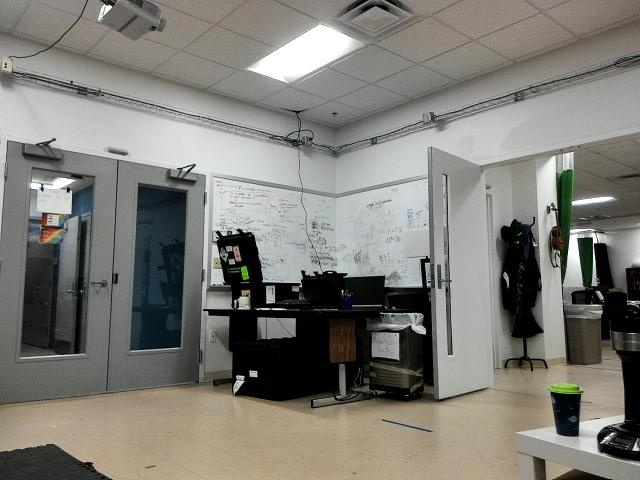useless_cup: (547, 381, 583, 437)
